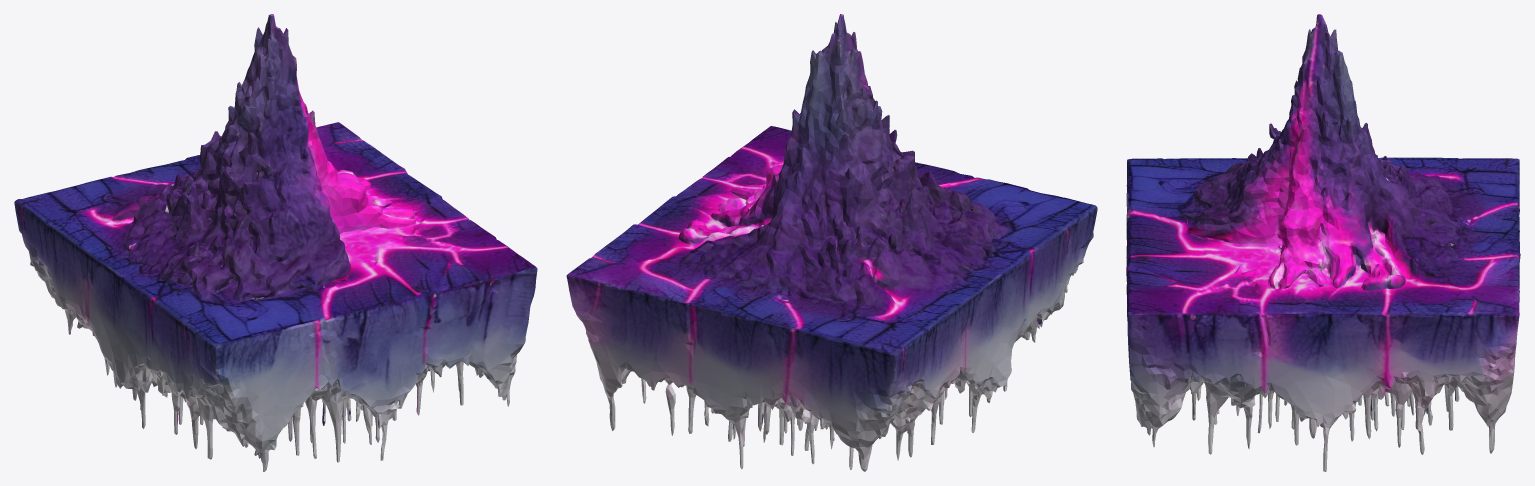
File: solitude-plateau-generated-2026-04-19T18-12-34-007Z.high.glb
The picture shows the model from 3 angles, left to right: view 1: azimuth 30°, elevation 25°; view 2: azimuth 150°, elevation 25°; view 3: azimuth 270°, elevation 25°; orthographic projection. The views are drawn at different scales.
Parts seen in each view (by area): view 1: temp_mesh.ply; view 2: temp_mesh.ply; view 3: temp_mesh.ply.
Part boxes in pixels (x1,y1,x2,y2): temp_mesh.ply: (14,14,537,471); temp_mesh.ply: (566,14,1097,471); temp_mesh.ply: (1126,14,1520,471).
Size of the model in its own units: 1.78 by 1.98 by 1.87.
1 material, 1 textured.
